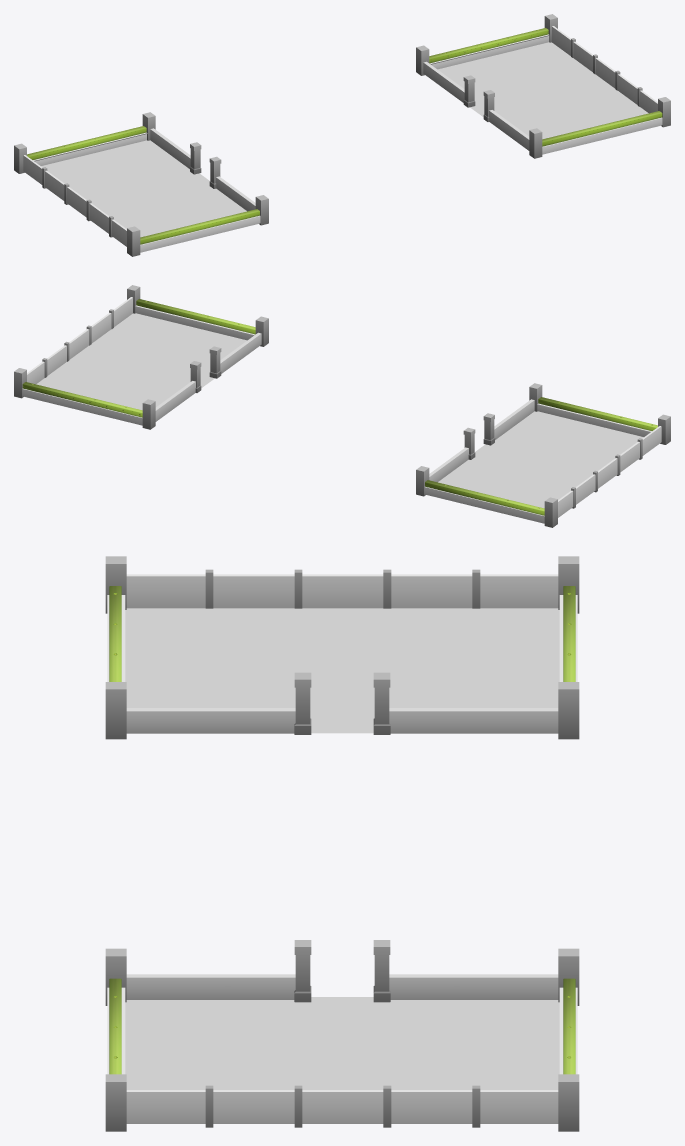
Rendered from EnviromentSMPSMA.fbx.
3 views of the same model, one above another, from view 1: azimuth 30°, elevation 25°; view 2: azimuth 150°, elevation 25°; view 3: azimuth 270°, elevation 25° (orthographic). The views are drawn at different scales.
Visible parts, largest first — view 1: Plane.056, Plane, Plane.012, Plane.002, Plane.003, Plane.009, Plane.006, Plane.010; view 2: Plane.056, Plane, Plane.012, Plane.002, Plane.003, Plane.009, Plane.006, Plane.010; view 3: Plane.056, Plane.002, Plane.009, Plane.003, Plane.012, Plane.006, Plane.010, Plane.
Part boxes in pixels (box(x1,y1,x2,y2)): Plane.056: box(41, 42, 648, 237); Plane: box(33, 34, 662, 252); Plane.012: box(27, 28, 662, 244); Plane.002: box(23, 26, 657, 246); Plane.003: box(14, 14, 670, 256); Plane.009: box(150, 61, 529, 211); Plane.006: box(189, 75, 494, 188); Plane.010: box(42, 38, 642, 237); Plane.056: box(36, 313, 643, 508); Plane: box(22, 305, 651, 523); Plane.012: box(22, 299, 657, 515); Plane.002: box(27, 297, 661, 517); Plane.003: box(14, 285, 670, 527); Plane.009: box(155, 332, 534, 482); Plane.006: box(190, 346, 495, 459); Plane.010: box(42, 309, 642, 508); Plane.056: box(125, 608, 559, 1089); Plane.002: box(126, 574, 558, 1123); Plane.009: box(126, 708, 558, 999); Plane.003: box(105, 556, 579, 1131); Plane.012: box(109, 586, 575, 1074); Plane.006: box(294, 672, 390, 1002); Plane.010: box(205, 569, 480, 1127); Plane: box(107, 595, 577, 1074).
Size of the model in its own units: 18077 by 947 by 6878.
